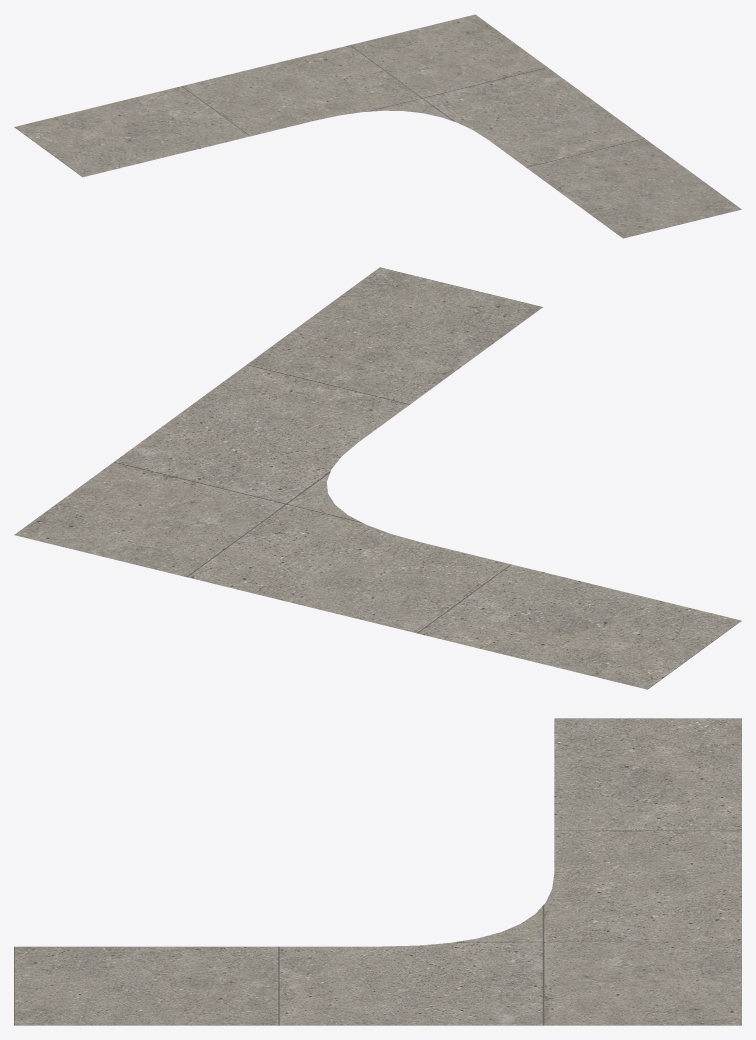
The model's file is SM_PAVING_6_3_Standard.fbx.
3 renders of one model, top to bottom at view 1: azimuth 30°, elevation 25°; view 2: azimuth 150°, elevation 25°; view 3: azimuth 270°, elevation 25°, orthographic. The views are drawn at different scales.
Visible parts, largest first — view 1: SM_Update_PAVING_6_3_Standard_v001; view 2: SM_Update_PAVING_6_3_Standard_v001; view 3: SM_Update_PAVING_6_3_Standard_v001.
Boxes of the visible parts, box(x1,y1,x2,y2) form: SM_Update_PAVING_6_3_Standard_v001: box(14, 14, 741, 238); SM_Update_PAVING_6_3_Standard_v001: box(14, 267, 741, 689); SM_Update_PAVING_6_3_Standard_v001: box(14, 718, 741, 1025).
Size of the model in its own units: 2.75 by 0 by 2.75.
Materials: 1 (1 with a texture image).
